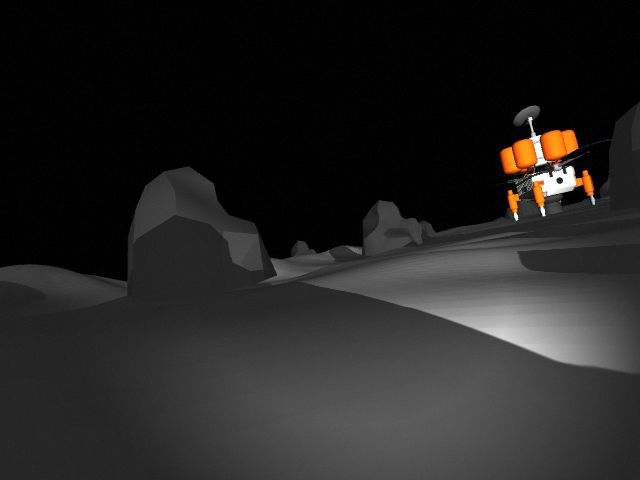homebase: (478, 103, 615, 223)
